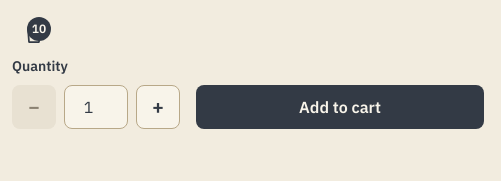
Test: AddToCart › at the per-line maximum › leaves the quantity on screen untouched
Click the button "Add to cart": [340, 107] box top-left (196, 85), bottom-right (484, 129)
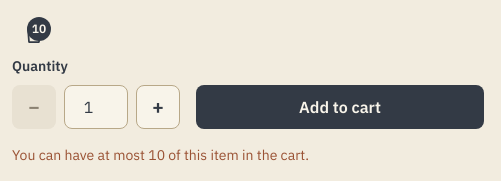
Now the message "You can have at most 10 of this item in the cart." is shown, box top-left (12, 146), bottom-right (309, 164)
